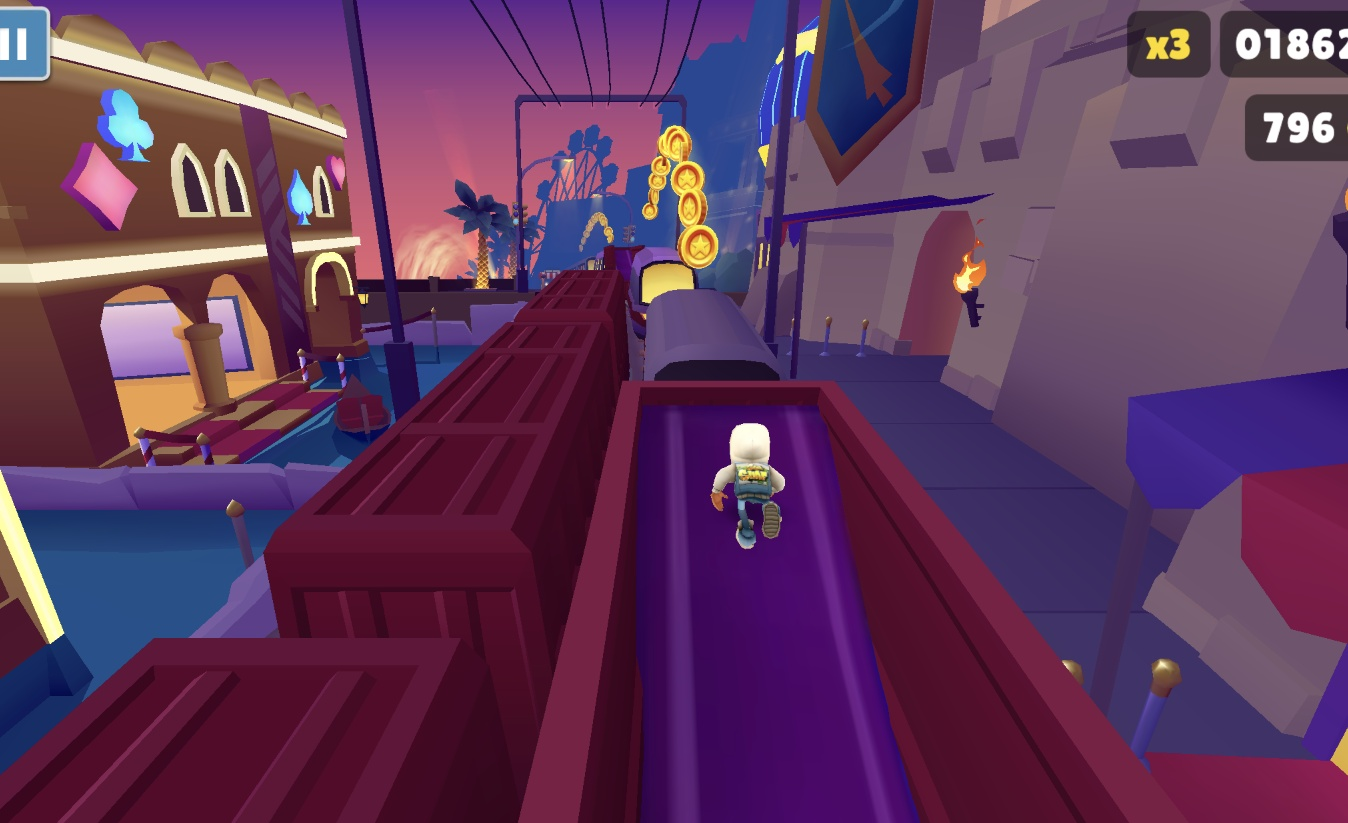train: (508, 288, 1178, 823), (0, 267, 634, 823), (600, 247, 706, 340)
